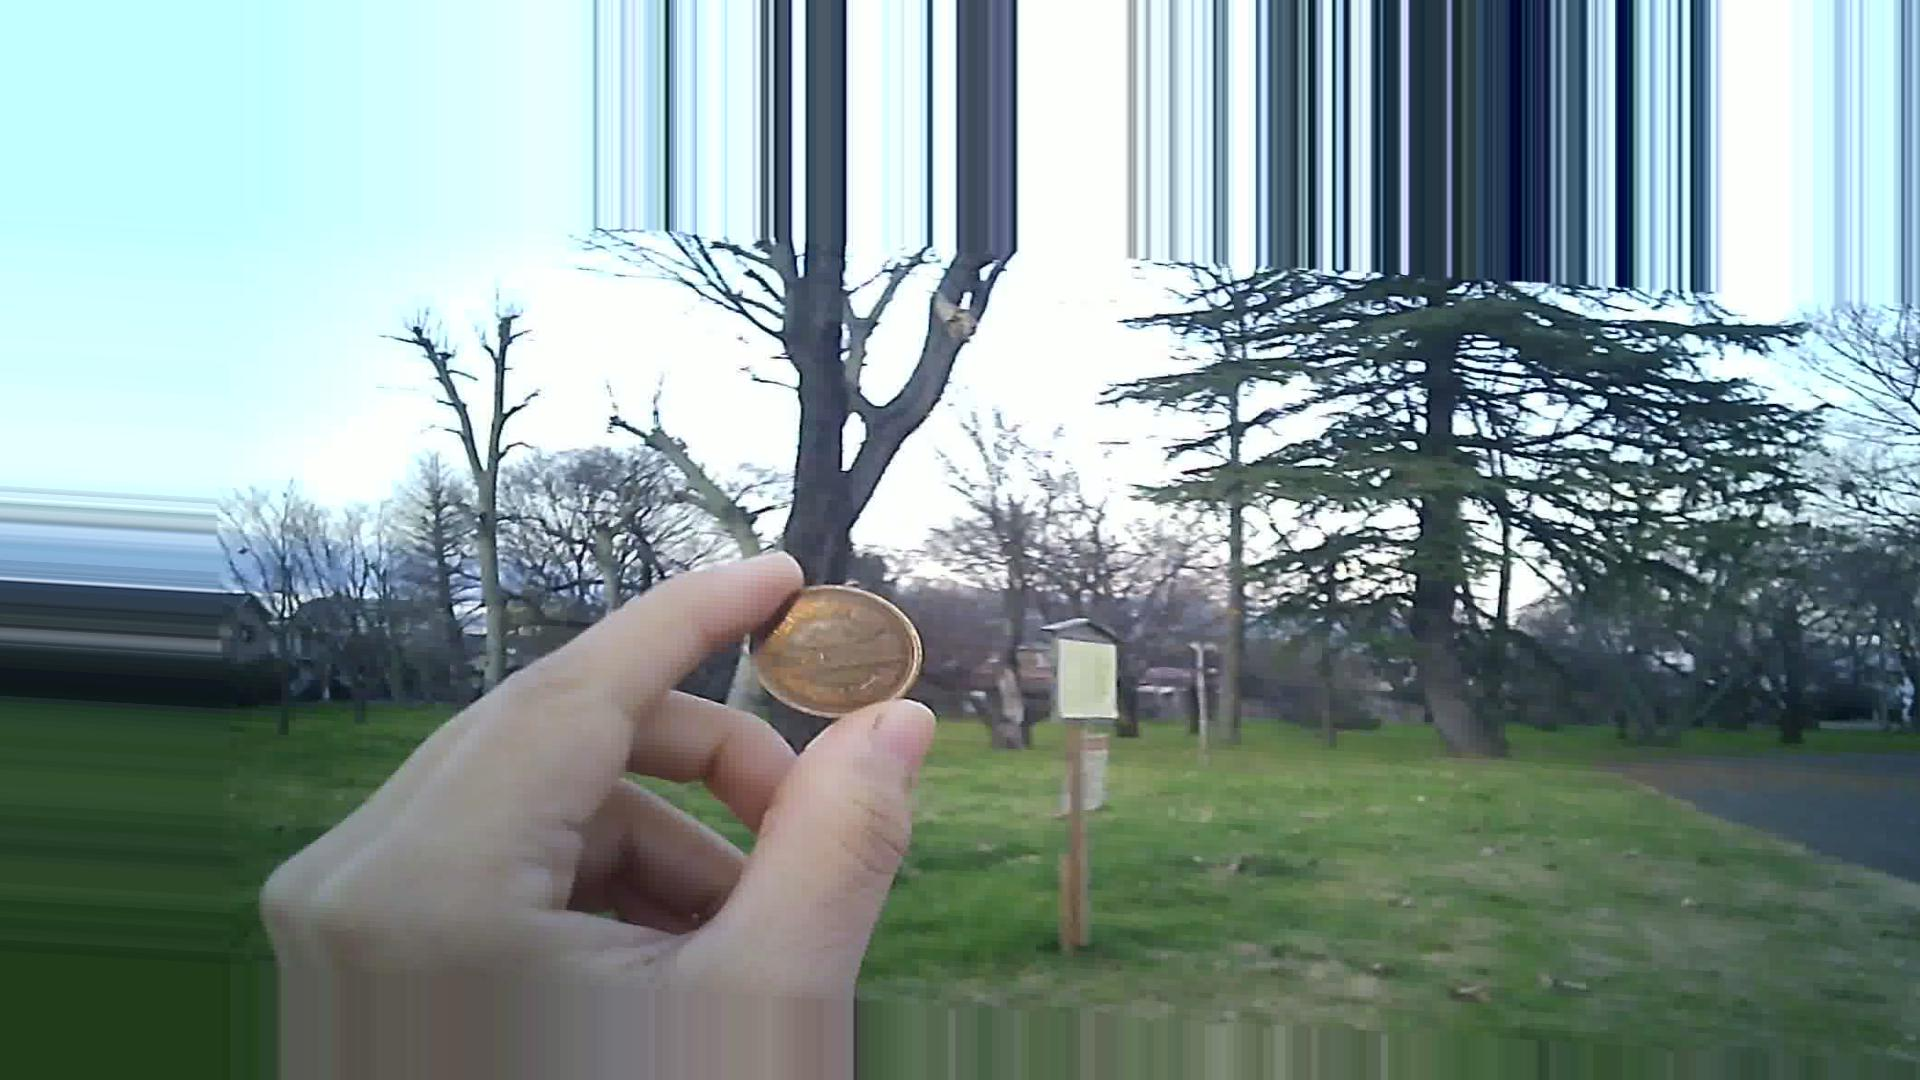10 Yen: (756, 585, 920, 723)
